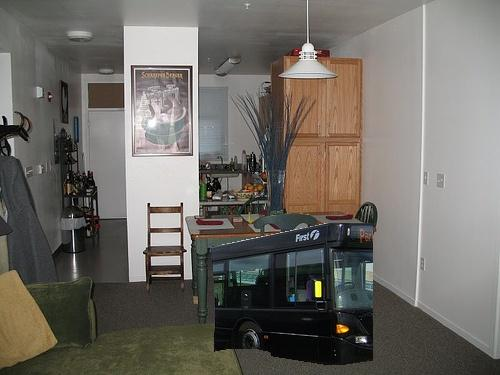tampered: (211, 224, 373, 365)
